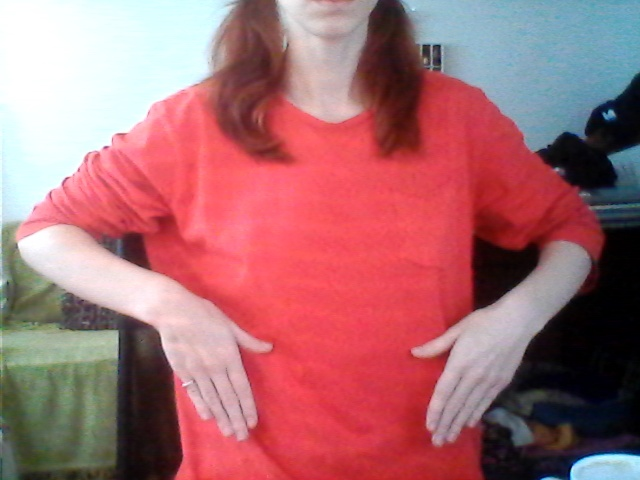zena: (140, 252, 511, 455)
